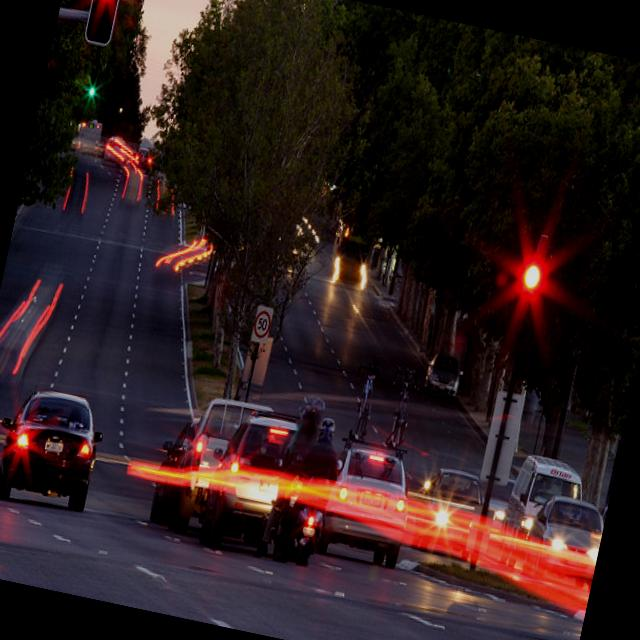Vehicle: (195, 399, 302, 562), (314, 429, 424, 574), (0, 381, 109, 519), (164, 392, 256, 542), (495, 450, 589, 578), (518, 490, 608, 592), (410, 480, 484, 564), (147, 412, 200, 528), (324, 220, 377, 286), (286, 492, 332, 564), (262, 484, 302, 561), (428, 466, 488, 516), (468, 472, 514, 536), (97, 130, 157, 173), (420, 352, 466, 404), (74, 116, 105, 158), (596, 502, 608, 534)
